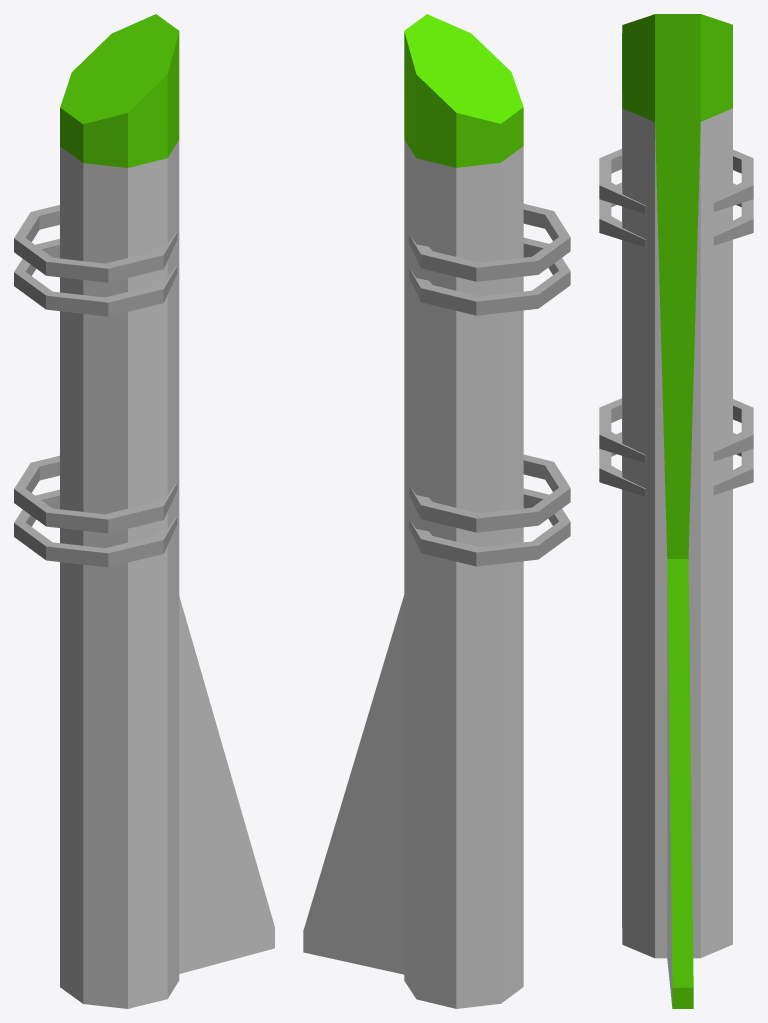
File: missile_lv5.fbx
The picture shows the model from 3 angles, left to right: view 1: azimuth 30°, elevation 25°; view 2: azimuth 150°, elevation 25°; view 3: azimuth 270°, elevation 25°; orthographic projection.
Visible parts, largest first — view 1: missile_lv5; view 2: missile_lv5; view 3: missile_lv5.
Part boxes in pixels (x1,y1,x2,y2): missile_lv5: [14, 14, 274, 1008]; missile_lv5: [303, 14, 570, 1008]; missile_lv5: [599, 14, 753, 1008].
Bounding box in the file's own units: 66.1 × 247 × 36.57.
